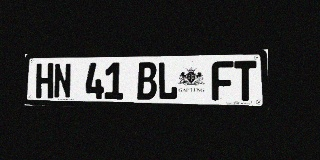1: (104, 62, 123, 99)
4: (85, 63, 104, 99)
B: (137, 62, 157, 100)
F: (212, 61, 234, 101)
H: (36, 63, 53, 98)
L: (157, 62, 178, 100)
N: (54, 63, 71, 99)
T: (234, 61, 257, 101)
